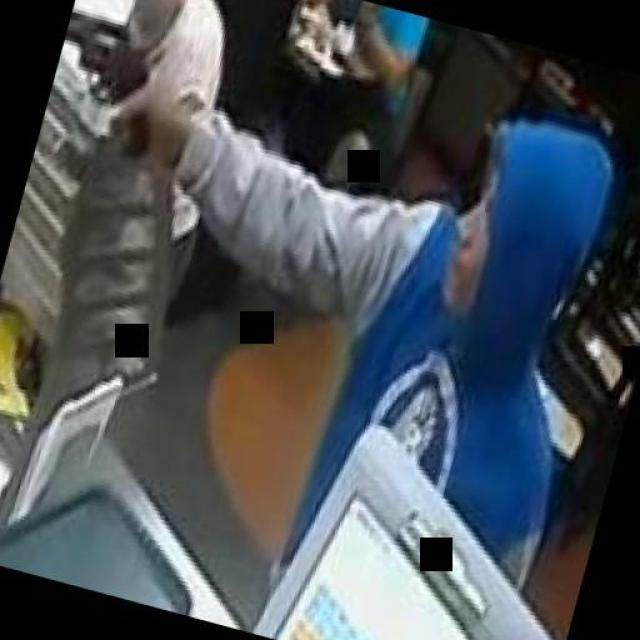gun: (40, 2, 180, 158)
